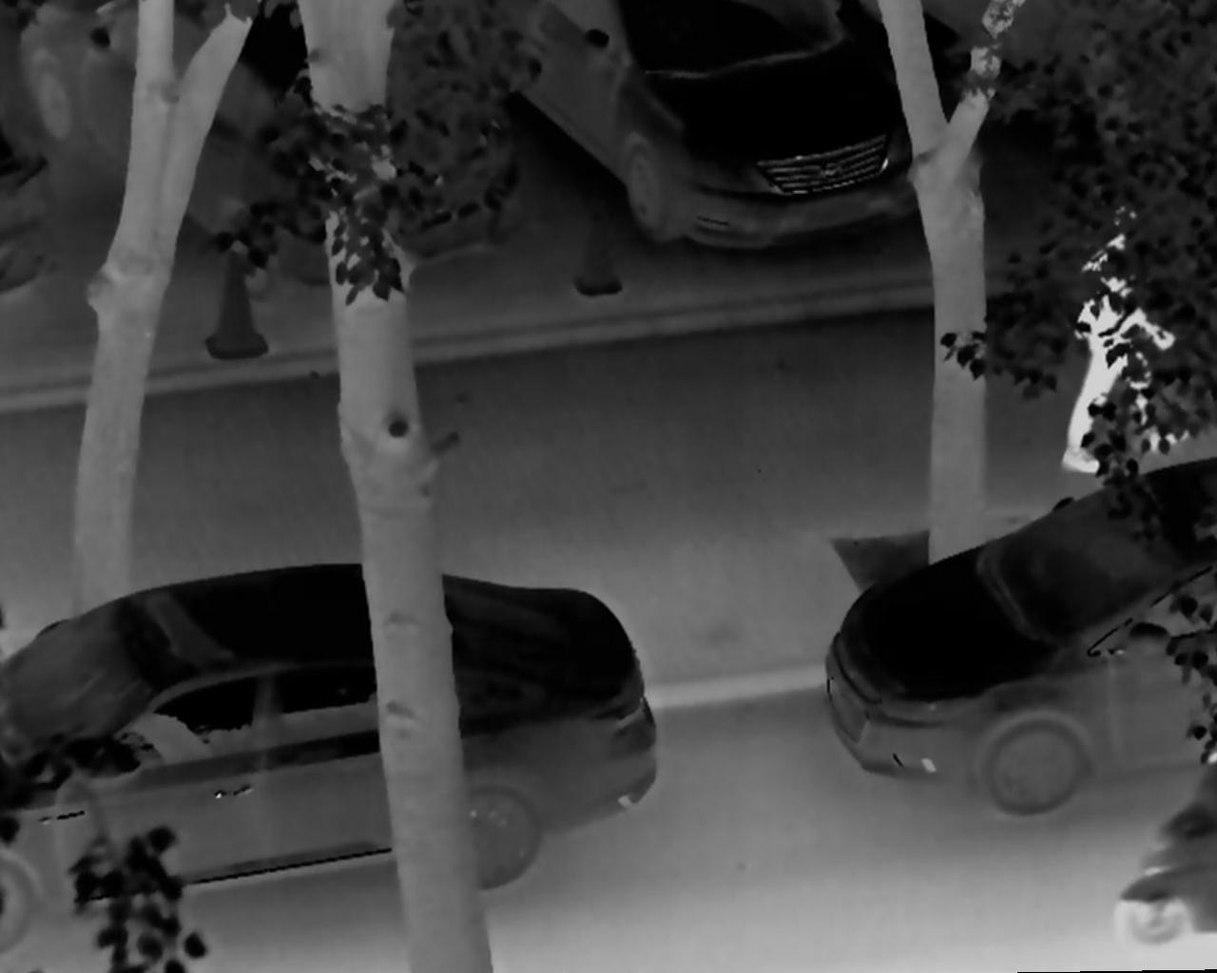person: (1055, 185, 1189, 479)
